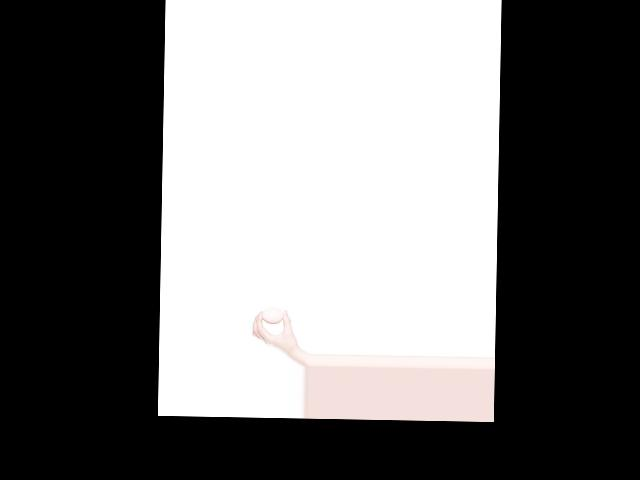egg: (262, 307, 283, 324)
